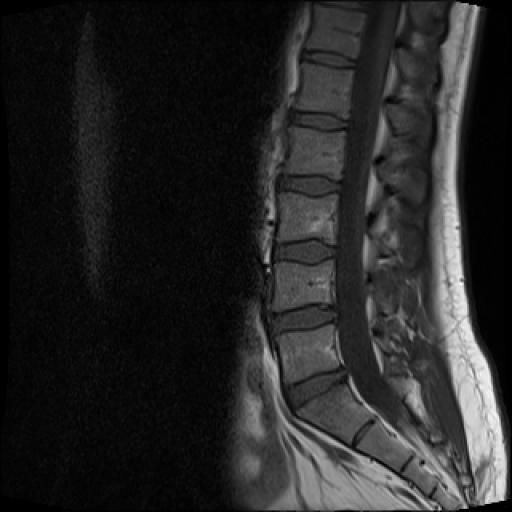L1: (296, 62, 354, 120)
L2: (286, 127, 346, 180)
L3: (278, 194, 338, 244)
L4: (273, 262, 335, 312)
L5: (281, 324, 338, 384)
S1: (293, 384, 375, 444)
